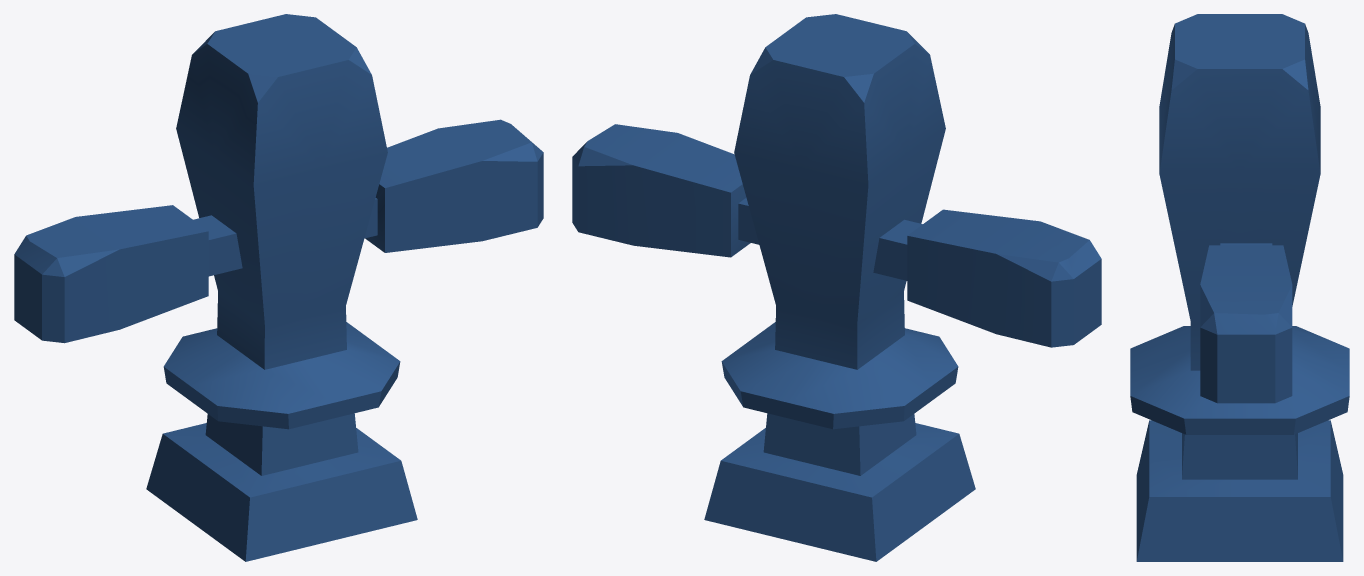
Rendered from OBJ_FLAG_B_01.FBX.
3 views of the same model, side by side, from view 1: azimuth 30°, elevation 25°; view 2: azimuth 150°, elevation 25°; view 3: azimuth 270°, elevation 25° (orthographic). The views are drawn at different scales.
Visible parts, largest first — view 1: OBJ_FLAG_B_01; view 2: OBJ_FLAG_B_01; view 3: OBJ_FLAG_B_01.
Part boxes in pixels (x1,y1,x2,y2): OBJ_FLAG_B_01: (14, 14, 543, 561); OBJ_FLAG_B_01: (572, 14, 1101, 561); OBJ_FLAG_B_01: (1130, 14, 1349, 561).
Size of the model in its own units: 8.81 by 7.7 by 3.21.
